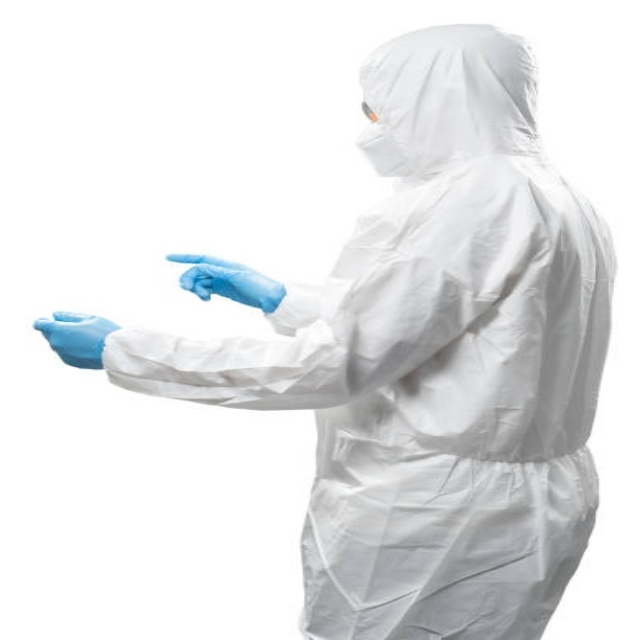Gafas: (362, 102, 378, 123)
Guantes: (166, 253, 288, 314), (33, 311, 124, 369)
Mascara: (355, 122, 421, 177)
